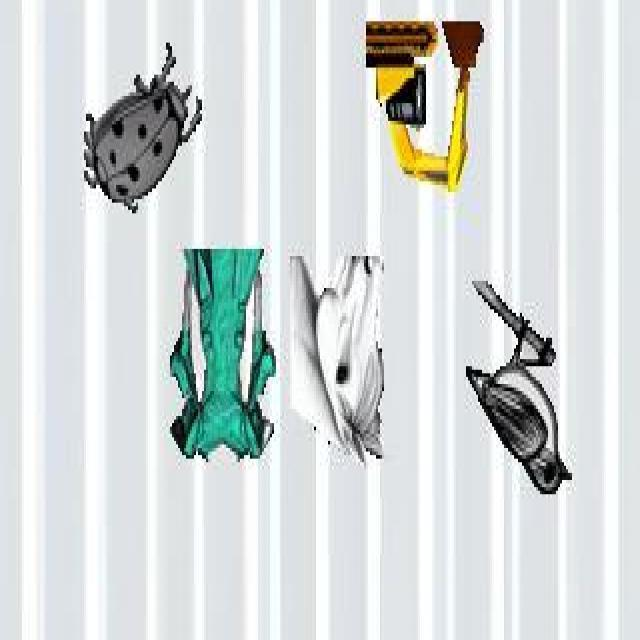Other Objects: (168, 246, 276, 462), (466, 278, 572, 498), (84, 40, 202, 216)
